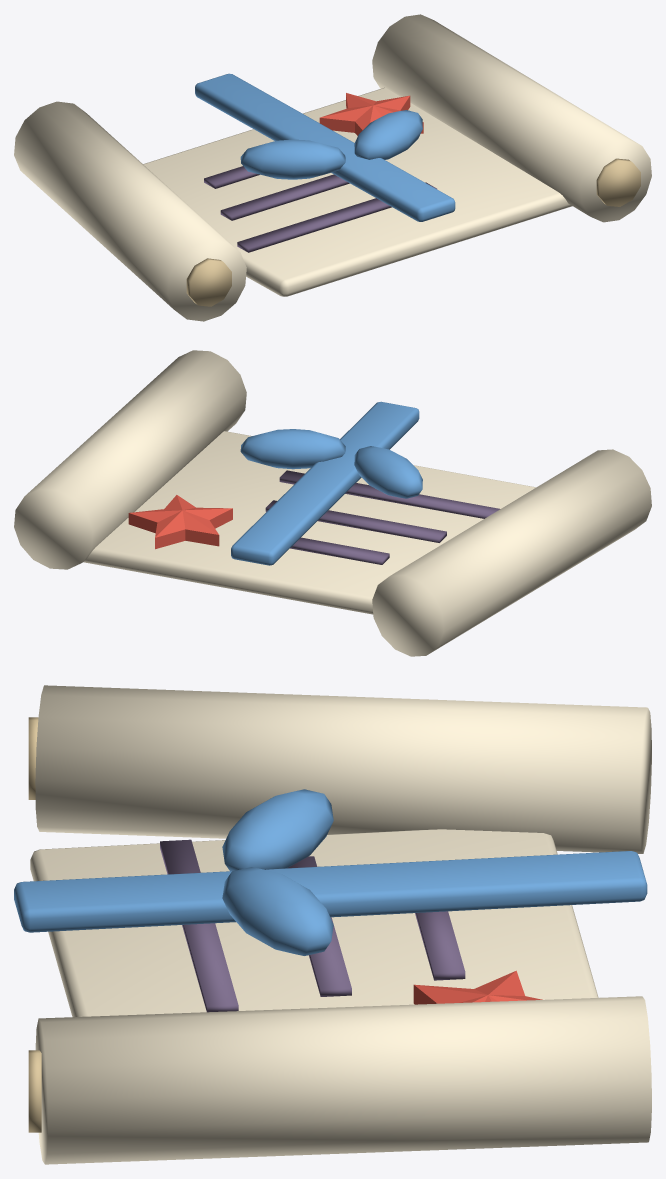
Rendered from mat-recipe-note.glb.
3 views of the same model, one above another, from view 1: azimuth 30°, elevation 25°; view 2: azimuth 150°, elevation 25°; view 3: azimuth 270°, elevation 25° (orthographic). The views are drawn at different scales.
Visible parts, largest first — view 1: mat; view 2: mat; view 3: mat.
Part boxes in pixels (bbox=[...]): mat: bbox=[14, 14, 651, 321]; mat: bbox=[14, 350, 651, 656]; mat: bbox=[14, 685, 651, 1164].
Bounding box in the file's own units: 0.3553 × 0.0619 × 0.243.
